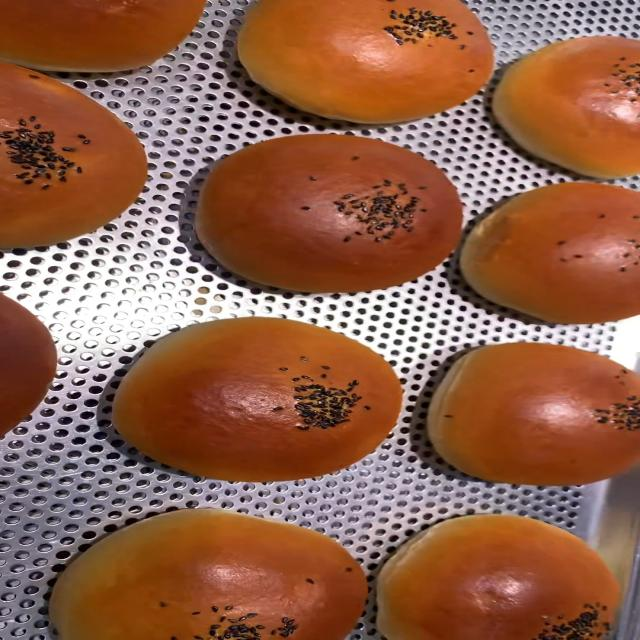bread: (111, 314, 409, 478), (194, 135, 486, 290), (46, 504, 372, 640), (234, 0, 496, 127), (420, 338, 640, 489), (373, 514, 628, 640), (456, 180, 637, 320), (490, 35, 639, 178), (0, 1, 222, 75)
